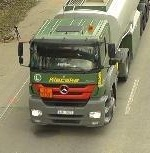truck: (30, 2, 149, 125)
